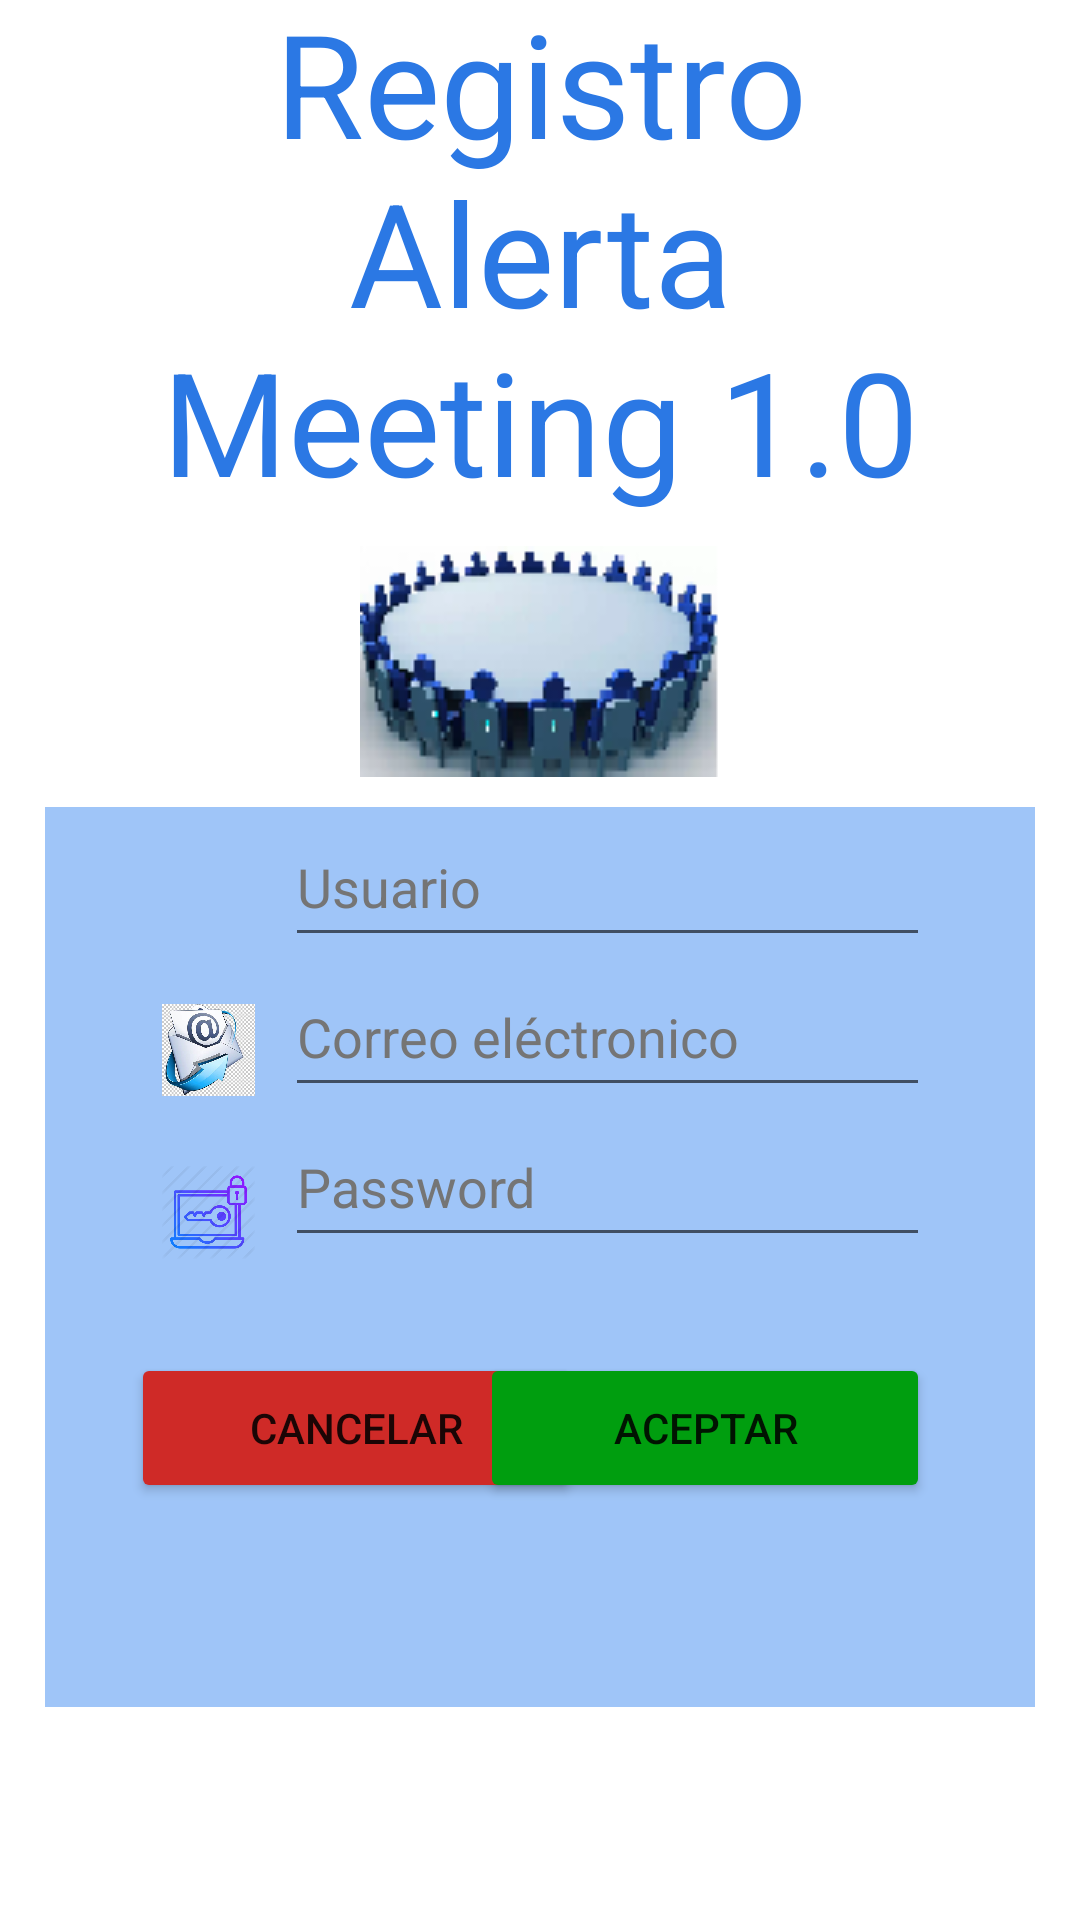

Point at icon controls on the screen. Image size 1080 × 1920, points as (x,y).
email: (208,1050)
